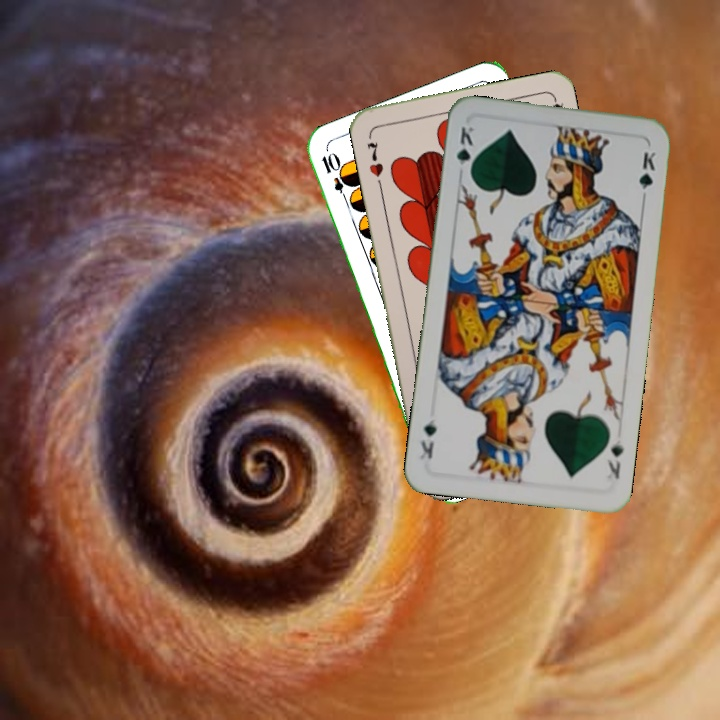E10: (317, 149, 353, 206)
GK: (453, 122, 477, 180), (602, 436, 626, 482)
H7: (362, 137, 386, 179)
